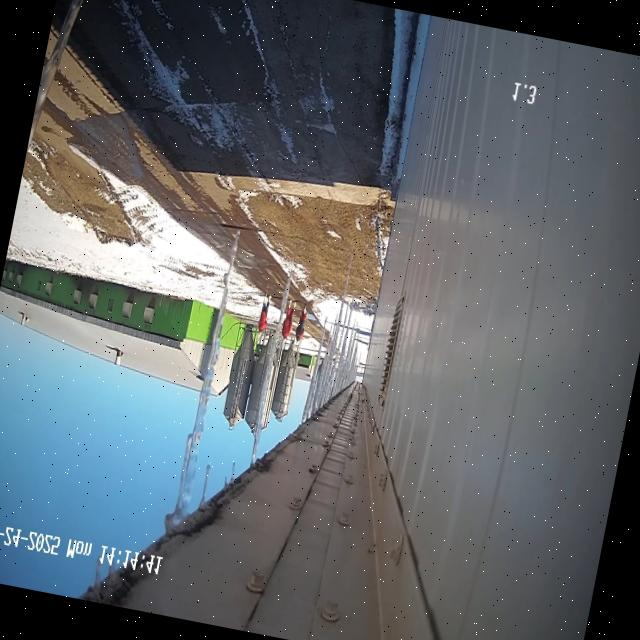Red uniform: (282, 301, 295, 341), (258, 295, 271, 334), (295, 305, 307, 342)
